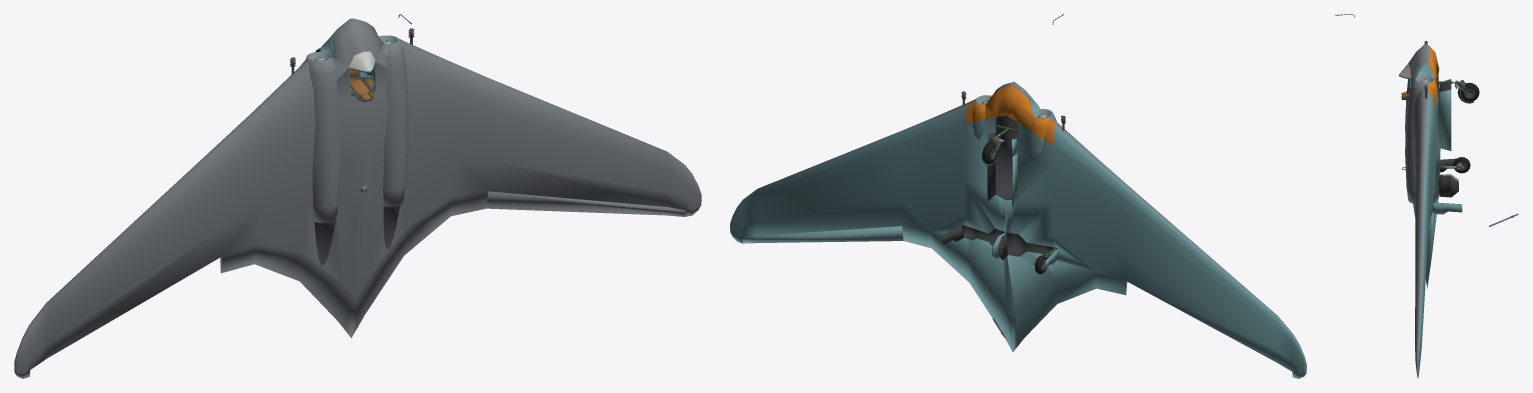
The picture shows the model from 3 angles, left to right: view 1: azimuth 30°, elevation 25°; view 2: azimuth 150°, elevation 25°; view 3: azimuth 270°, elevation 25°; orthographic projection. The views are drawn at different scales.
Visible parts, largest first — view 1: HO_229_Hull, Rudder_Left_17.2065d_1.4674d, Cube; view 2: HO_229_Hull, Rudder_Left_17.2065d_1.4674d, Wheel; view 3: HO_229_Hull, TrapDoor_Front_Right, Wheel, TrapDoor_Back_M_Right, TrapDoor_Back_Right, Right_Wheel.001.
Part boxes in pixels (bbox=[...]): HO_229_Hull: bbox=[14, 18, 701, 378]; Rudder_Left_17.2065d_1.4674d: bbox=[486, 191, 685, 216]; Cube: bbox=[348, 63, 376, 101]; HO_229_Hull: bbox=[730, 81, 1306, 378]; Rudder_Left_17.2065d_1.4674d: bbox=[742, 226, 903, 243]; Wheel: bbox=[982, 125, 1017, 165]; HO_229_Hull: bbox=[1398, 41, 1440, 378]; TrapDoor_Front_Right: bbox=[1439, 89, 1451, 150]; Wheel: bbox=[1438, 80, 1479, 103]; TrapDoor_Back_M_Right: bbox=[1439, 175, 1458, 197]; TrapDoor_Back_Right: bbox=[1432, 202, 1462, 214]; Right_Wheel.001: bbox=[1440, 157, 1470, 173].
Bounding box in the file's own units: 13.11 × 6.58 × 3.98.
